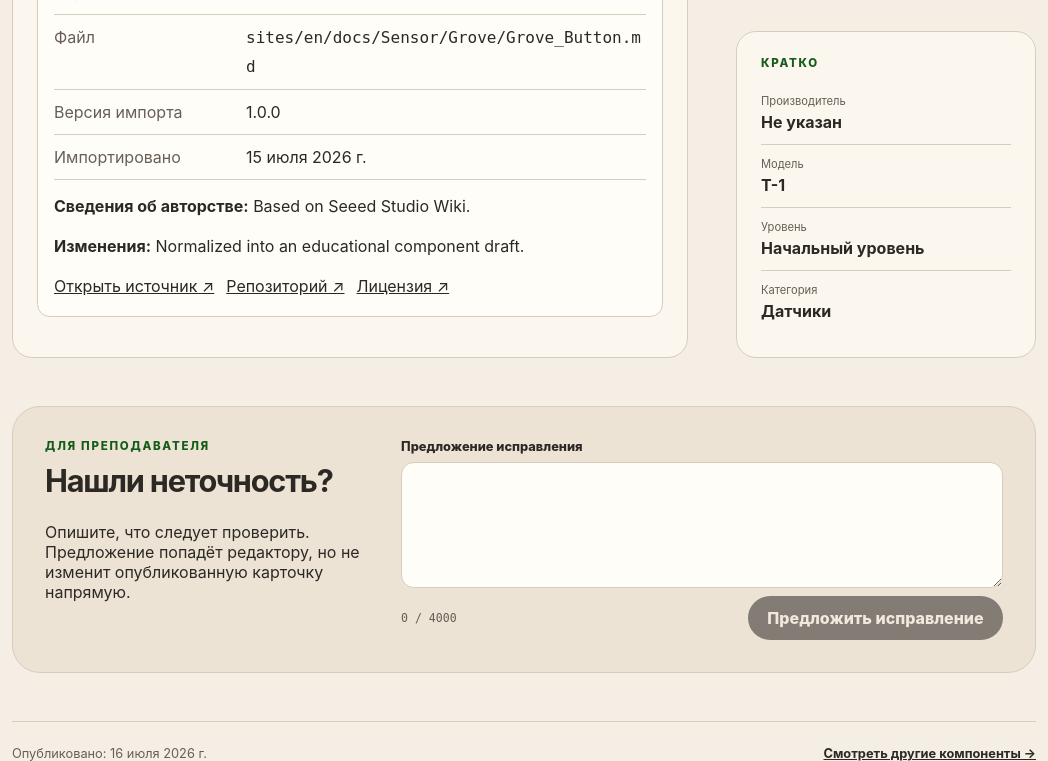
Test: student catalog › lets a teacher propose a correction without exposing direct editing
(page scrolled)
Type "Уточнить допустимое напряжение питания." into the text box labelled "Предложение исправления".
click(702, 525); type("Уточнить допустимое напряжение питания.")  # box [401, 462, 1003, 588]
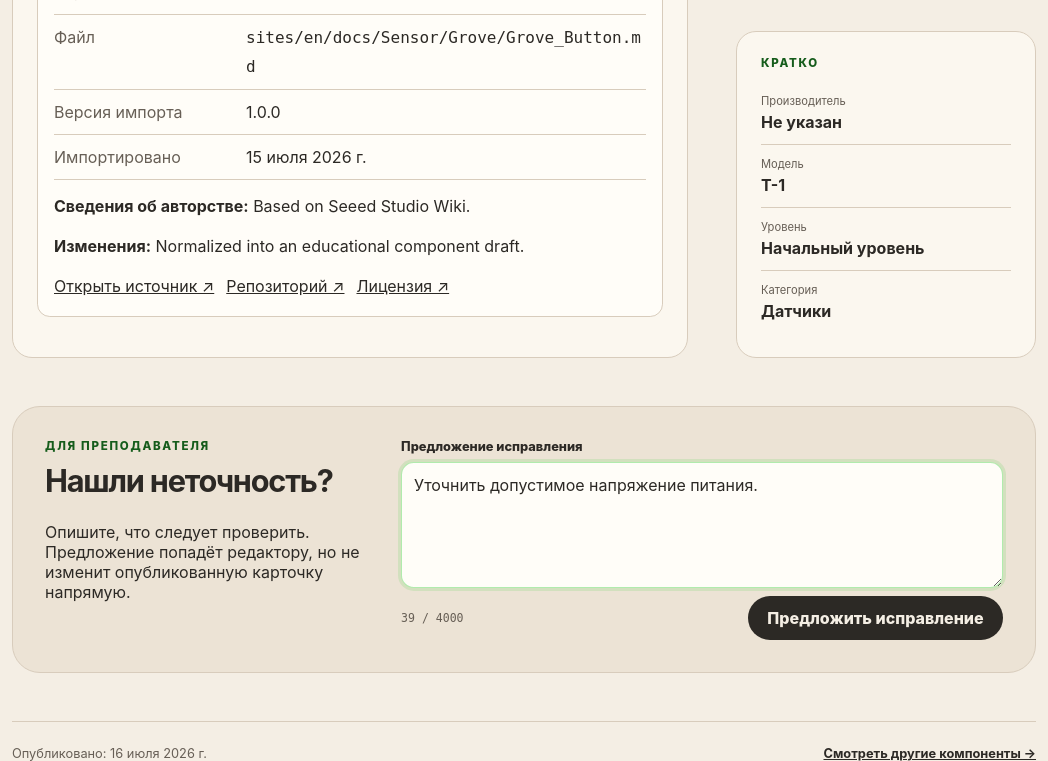
Click the button "Предложить исправление".
click(876, 618)  # box [748, 596, 1003, 640]
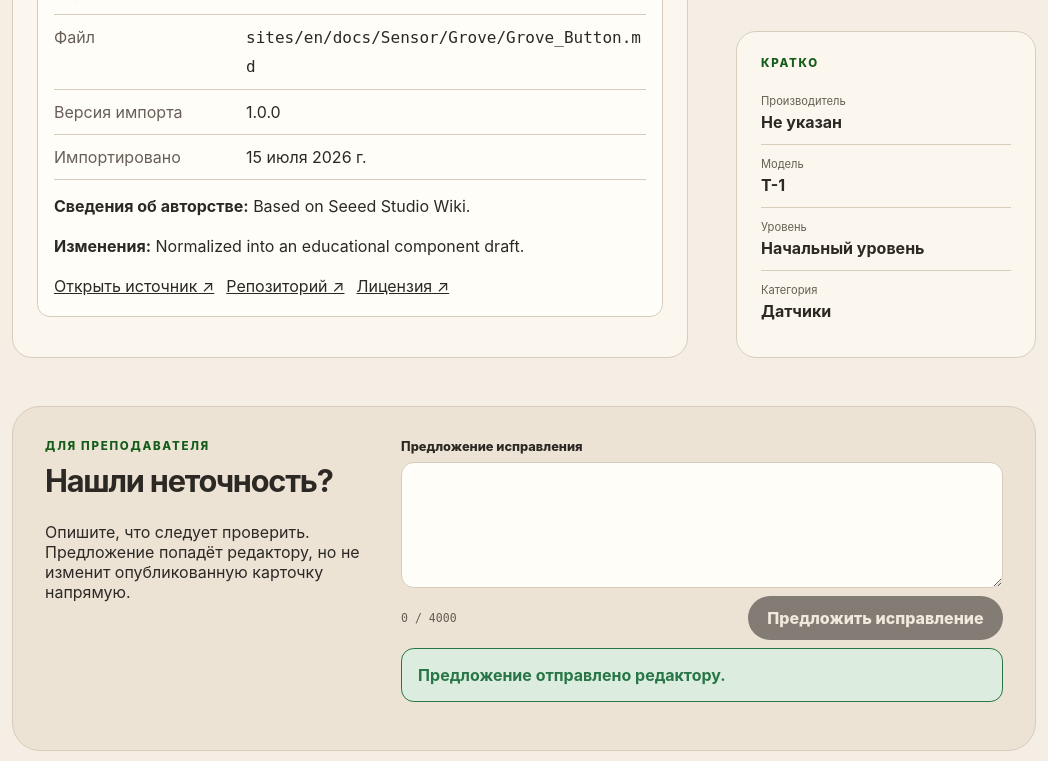
Result: the message reads "Предложение отправлено редактору." at [418, 665, 726, 685]
